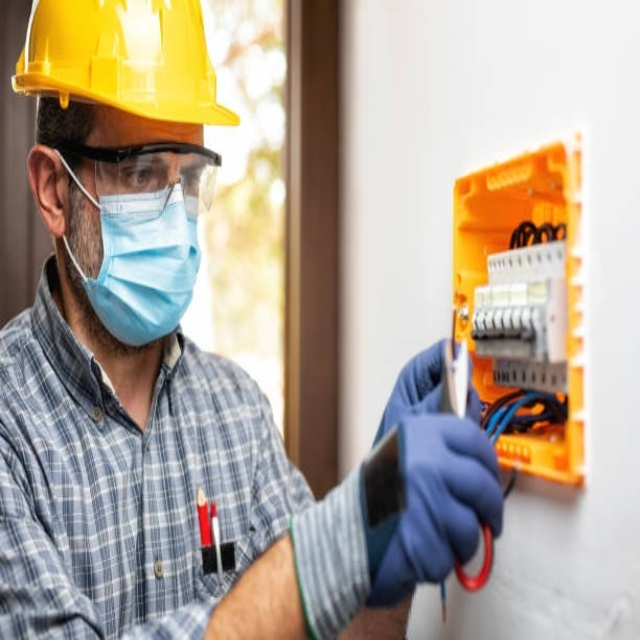Gafas: (90, 143, 221, 231)
Guantes: (284, 419, 509, 634), (373, 338, 486, 449)
Mascara: (76, 184, 203, 339)
